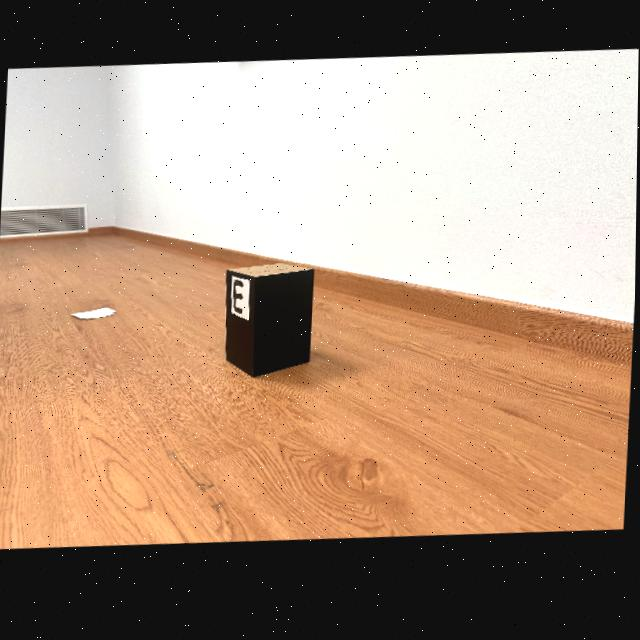E: (234, 283, 244, 318)
